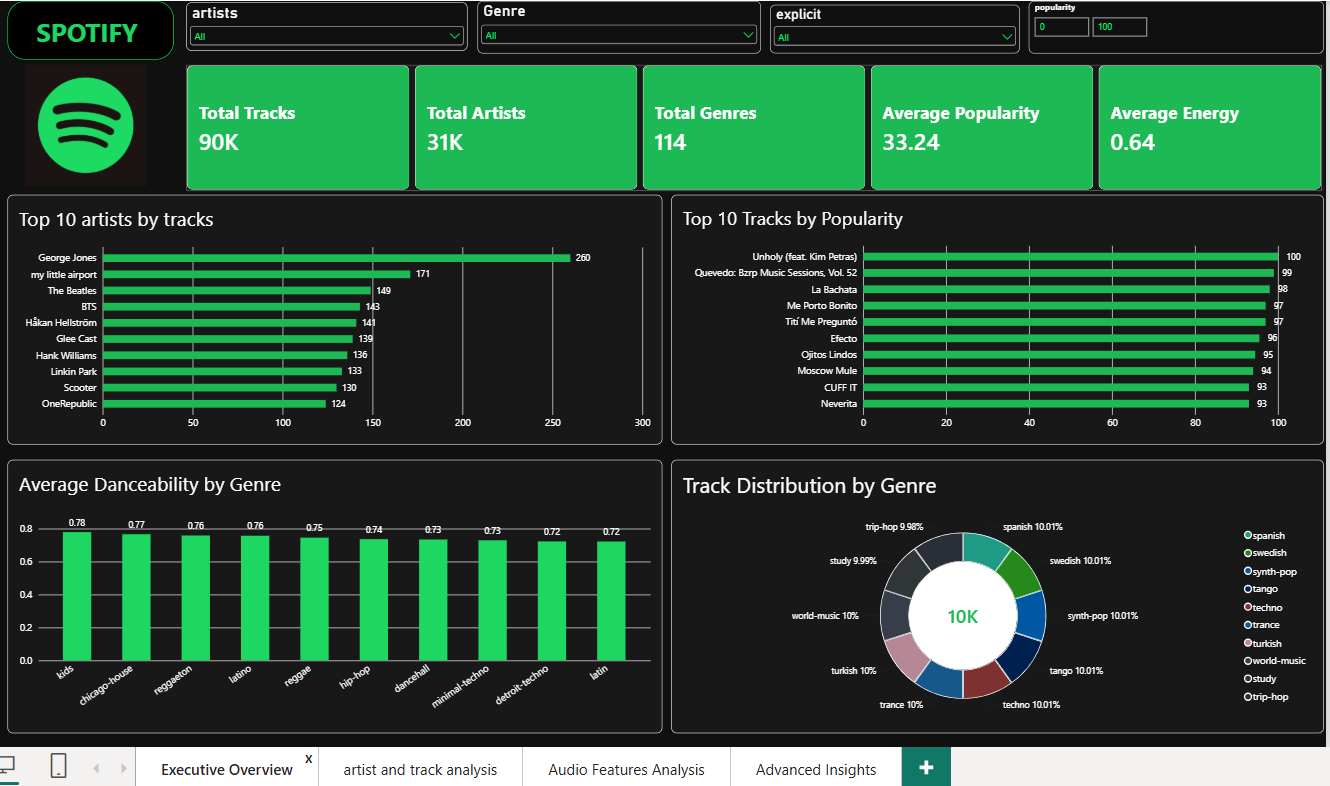

The dashboard page shown, as its layout file describes it:
{"tool":"powerbi","page":{"name":"Executive Overview","canvas":[1920,1080],"ordinal":0},"visuals":[{"type":"textbox","box":[10.9,0,240.7,85.1],"z":0},{"type":"cardVisual","fields":{"Data":["Measures (2).Total Tracks","Measures (2).Total Artists","Measures (2).Total Genres","Measures (2).Average Popularity","Measures (2).Average Energy"]},"box":[269.6,92.3,1646.8,182.8],"z":1},{"type":"clusteredBarChart","title":"Top 10 artists by tracks","fields":{"Category":["DimArtist.Artist"],"Y":["Measures (2).Total Tracks"]},"box":[10.9,280.5,948.3,361.9],"z":2},{"type":"clusteredBarChart","title":"Top 10 Tracks by Popularity","fields":{"Category":["FactTracks.track_name"],"Y":["Measures (2).Average Popularity"]},"box":[971.8,280.5,944.6,361.9],"z":3},{"type":"donutChart","title":"Track Distribution by Genre","fields":{"Category":["DimGenre.Genre"],"Y":["Measures (2).Total Tracks"]},"box":[971.8,664.1,944.6,396.3],"z":4},{"type":"clusteredColumnChart","fields":{"Category":["DimGenre.Genre"],"Y":["Measures (2).Average Danceability"]},"box":[10.9,664.1,948.3,396.3],"z":5},{"type":"slicer","fields":{"Values":["DimGenre.Genre"]},"box":[691.3,0,410.8,76],"z":6},{"type":"slicer","fields":{"Values":["FactTracks.artists"]},"box":[269.6,1.8,407.2,70.6],"z":7},{"type":"slicer","fields":{"Values":["FactTracks.explicit"]},"box":[1114.8,5.4,361.9,70.6],"z":8},{"type":"slicer","fields":{"Values":["FactTracks.popularity"]},"box":[1489.4,0,427.1,76],"z":9},{"type":"image","box":[25.3,92.3,197.3,175.5],"z":11}]}

Visuals, with their boxes on the page's 1920x1080 design canvas (x1, y1, x2, y2). These are canvas units, not pixel positions in the 1330x786 screenshot, which may show the page scaled, cropped or inside an application window:
textbox: rect(11, 0, 252, 85)
cardVisual - Measures (2).Total Tracks x Measures (2).Total Artists: rect(270, 92, 1916, 275)
"Top 10 artists by tracks" clusteredBarChart: rect(11, 280, 959, 642)
"Top 10 Tracks by Popularity" clusteredBarChart: rect(972, 280, 1916, 642)
"Track Distribution by Genre" donutChart: rect(972, 664, 1916, 1060)
clusteredColumnChart - DimGenre.Genre x Measures (2).Average Danceability: rect(11, 664, 959, 1060)
slicer - DimGenre.Genre: rect(691, 0, 1102, 76)
slicer - FactTracks.artists: rect(270, 2, 677, 72)
slicer - FactTracks.explicit: rect(1115, 5, 1477, 76)
slicer - FactTracks.popularity: rect(1489, 0, 1916, 76)
image: rect(25, 92, 223, 268)
